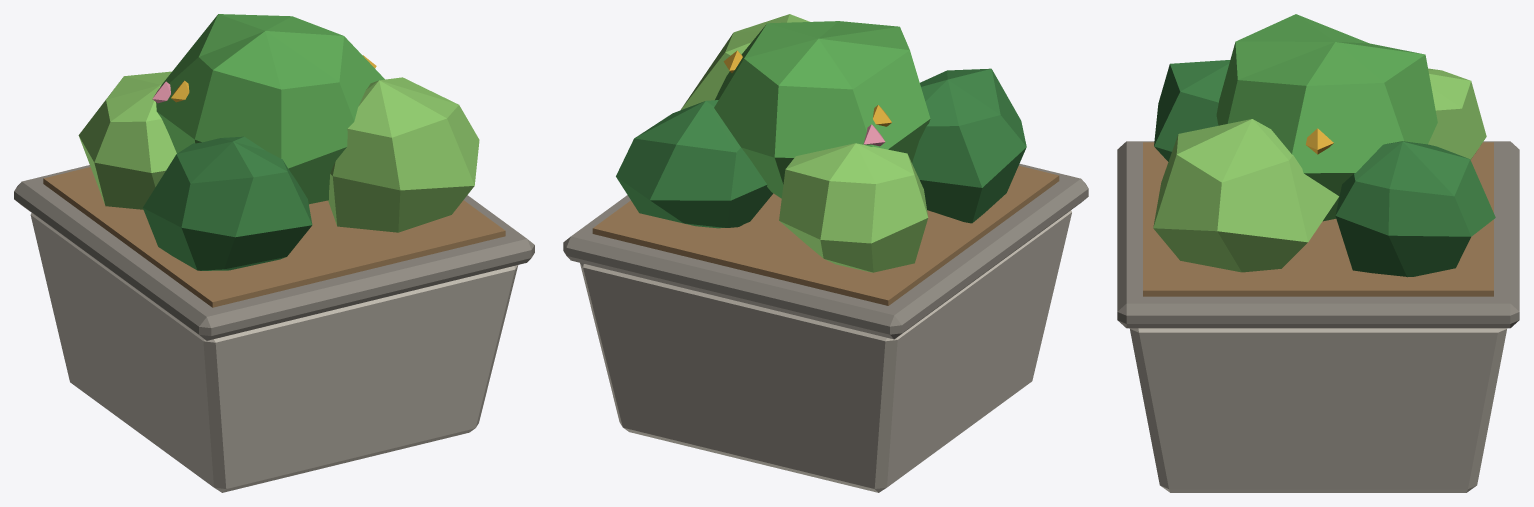
File: planter.glb
3 renders of one model, left to right at view 1: azimuth 30°, elevation 25°; view 2: azimuth 150°, elevation 25°; view 3: azimuth 270°, elevation 25°, orthographic. The views are drawn at different scales.
Visible parts, largest first — view 1: planter; view 2: planter; view 3: planter.
Part boxes in pixels (x1,y1,x2,y2): planter: [14, 14, 534, 492]; planter: [563, 14, 1088, 492]; planter: [1117, 14, 1519, 492].
Bounding box in the file's own units: 1.1 × 1.17 × 1.1.
